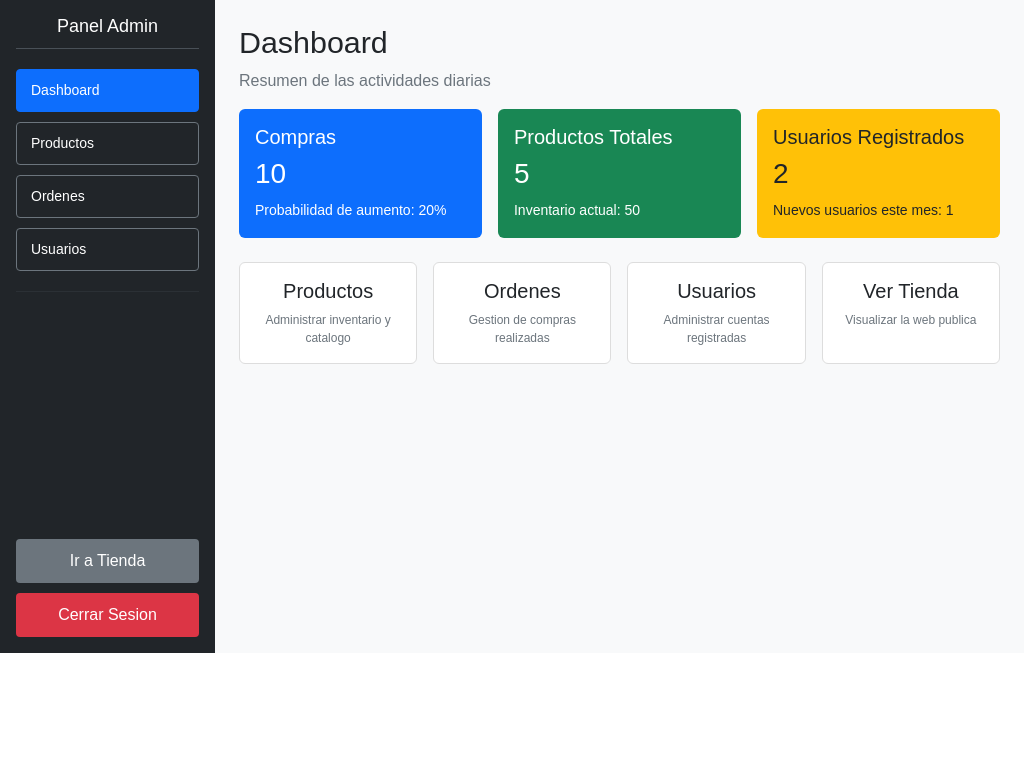
Pruebas básicas para la vista de Administración › debe mostrar el formulario de productos en la pantalla
Expected: the heading "Dashboard" is shown, [239,25,388,59]
Click the button "Productos": (108, 143) [16,122,199,165]
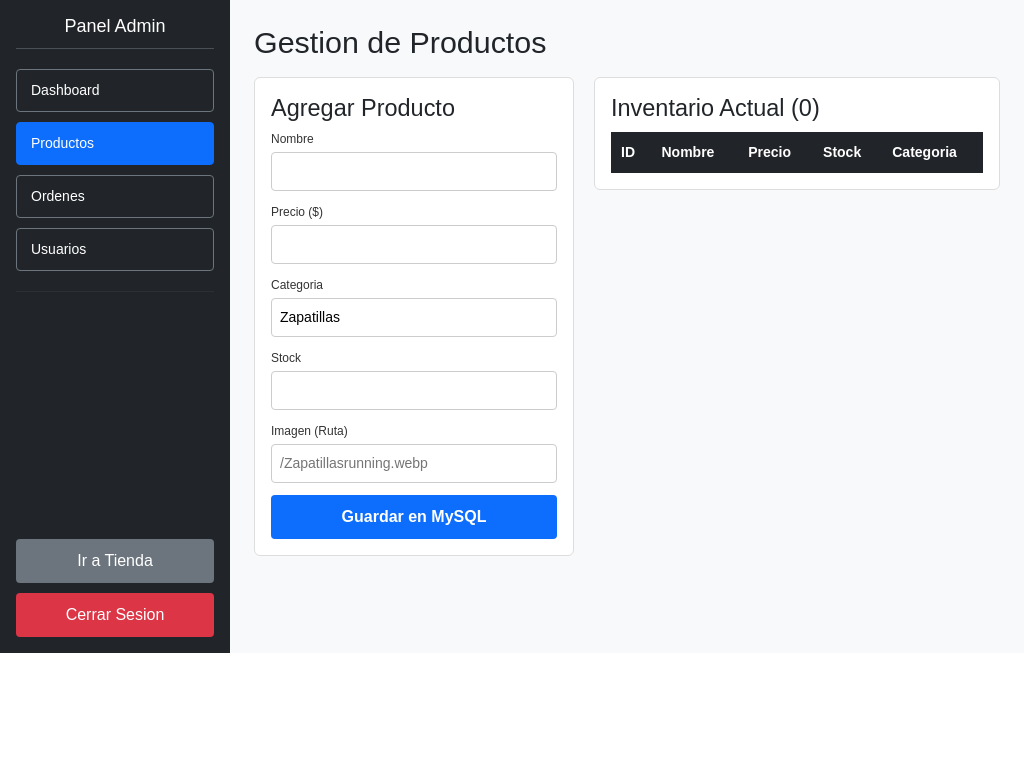
Now the heading "Gestion de Productos" is shown, box [254,25,546,59]
Now the heading "Agregar Producto" is shown, box [271,94,455,120]
